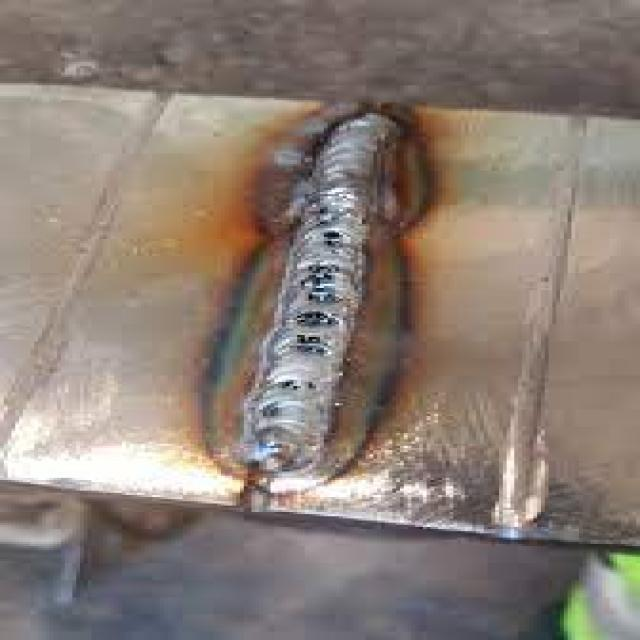Porosity: (292, 260, 351, 309), (288, 306, 342, 331), (285, 334, 337, 358), (317, 228, 355, 252), (275, 376, 317, 394)
